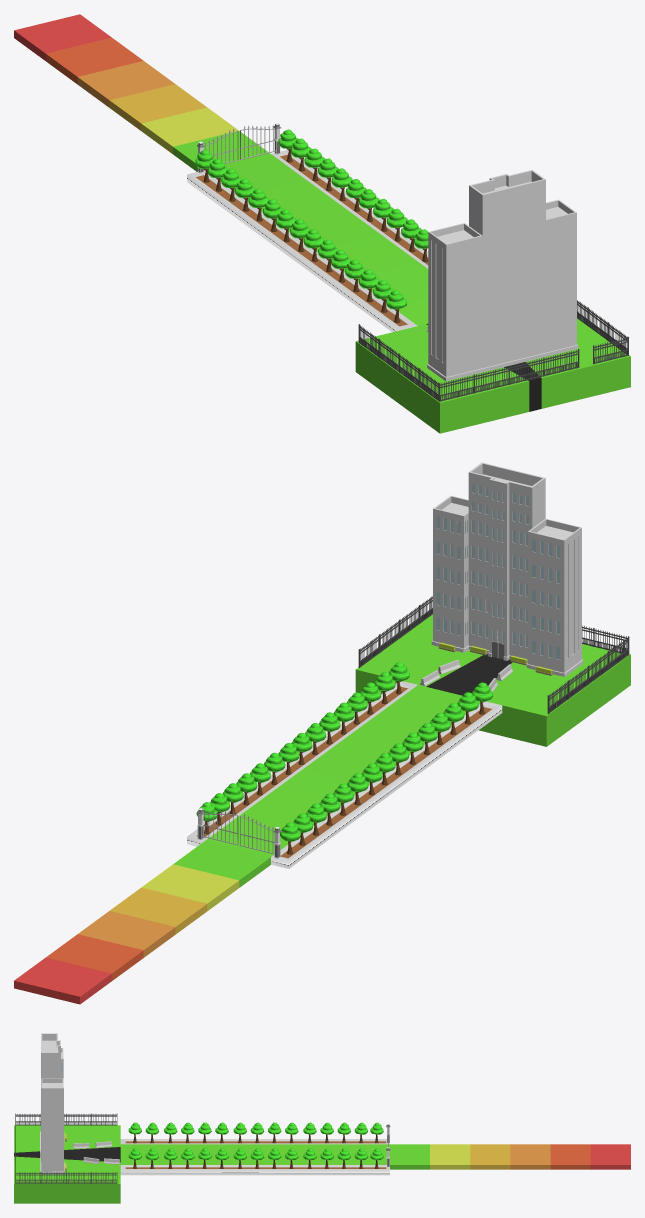
Rendered from Bonus.fbx.
3 renders of one model, top to bottom at view 1: azimuth 30°, elevation 25°; view 2: azimuth 150°, elevation 25°; view 3: azimuth 270°, elevation 25°, orthographic. The views are drawn at different scales.
Parts seen in each view (by area): view 1: End, BonusPath, X; view 2: End, BonusPath, X; view 3: BonusPath, End, X.
Part boxes in pixels (x1=…): End: x1=355, y1=169, x2=630, y2=433; BonusPath: x1=187, y1=129, x2=428, y2=332; X: x1=14, y1=14, x2=270, y2=171; End: x1=355, y1=462, x2=630, y2=746; BonusPath: x1=187, y1=662, x2=502, y2=868; X: x1=14, y1=841, x2=270, y2=1004; BonusPath: x1=120, y1=1122, x2=389, y2=1175; End: x1=14, y1=1033, x2=120, y2=1203; X: x1=390, y1=1144, x2=630, y2=1169.
Bounding box in the file's own units: 26 × 26.97 × 115.
